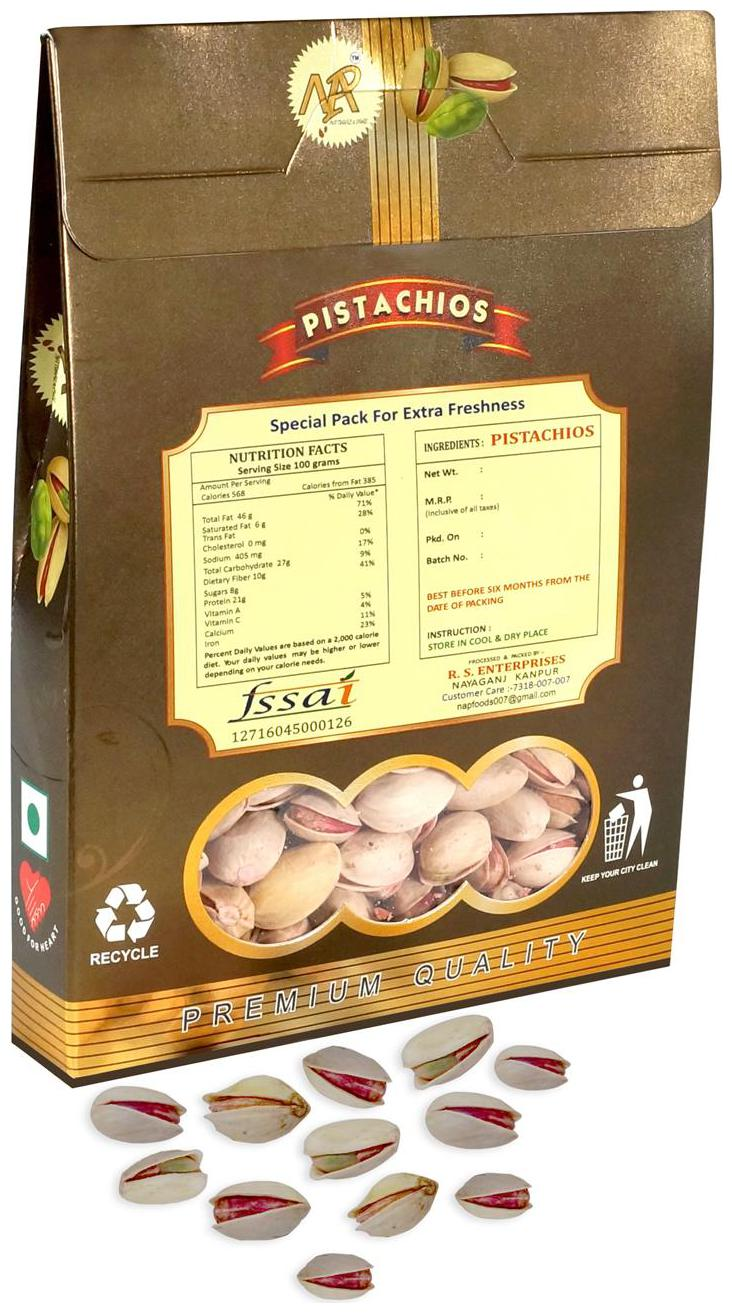fssai: (225, 668, 360, 723)
